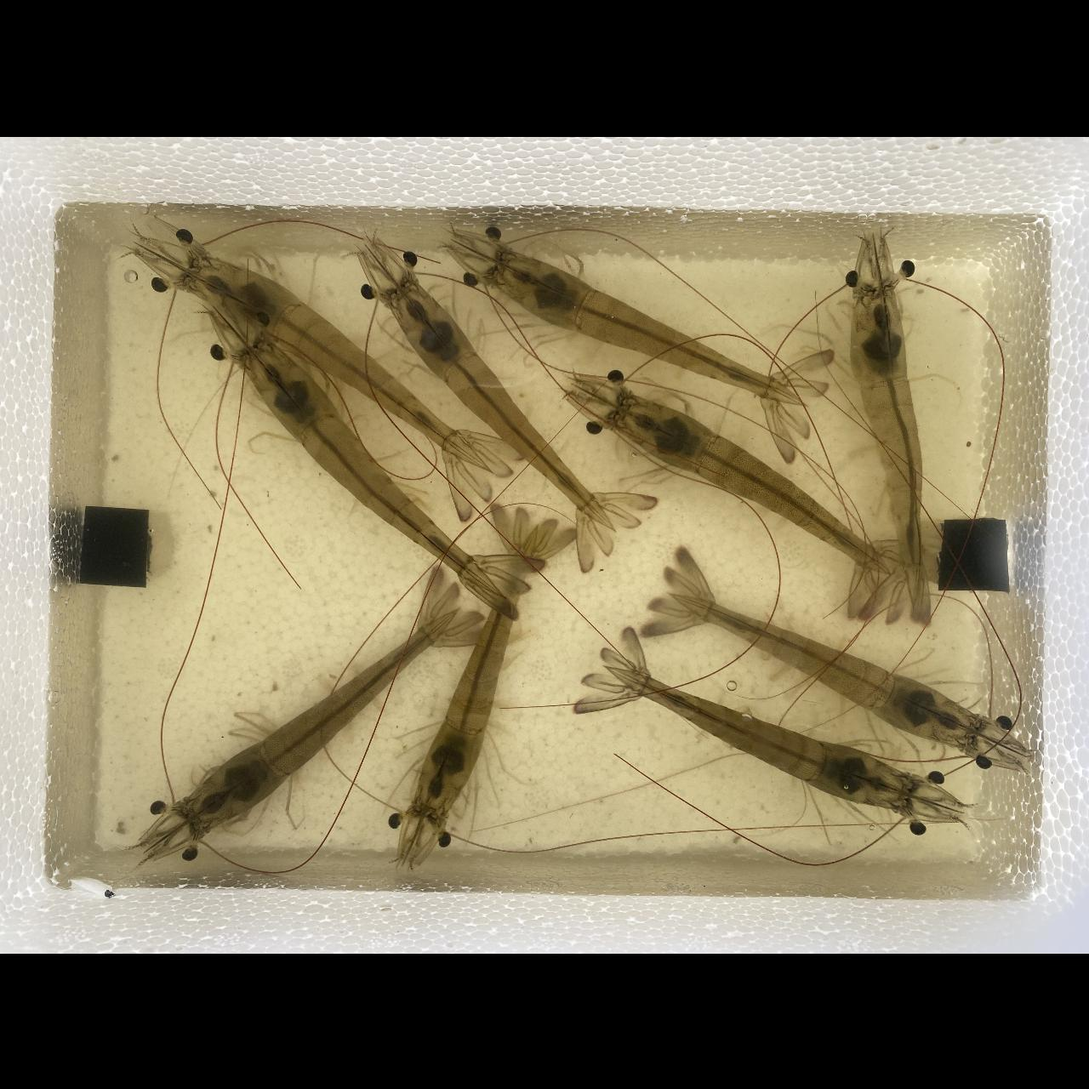box: (79, 506, 149, 586), (937, 517, 1009, 591)
top_shrimp: (247, 342, 512, 600), (184, 253, 492, 472), (183, 609, 456, 831), (389, 281, 617, 531), (614, 395, 891, 574), (668, 592, 980, 749), (494, 251, 808, 405), (602, 664, 912, 806), (416, 523, 536, 820), (852, 284, 924, 606)
